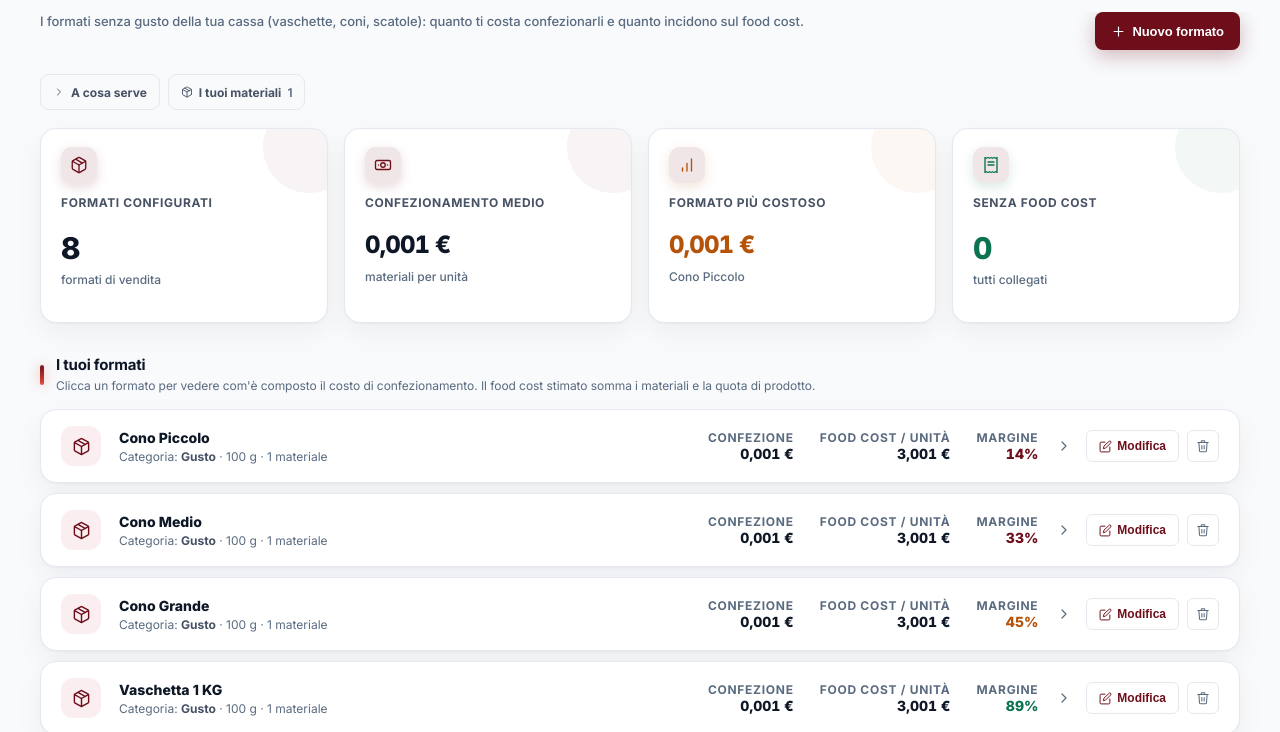
Test case: Eliminare chiede prima › il cestino non elimina: chiede, e dice cosa succede
The width and height of the screenshot is (1280, 732).
Click the button named "Elimina il formato Cono Piccolo".
click(1203, 446)  # box [1187,430,1219,462]
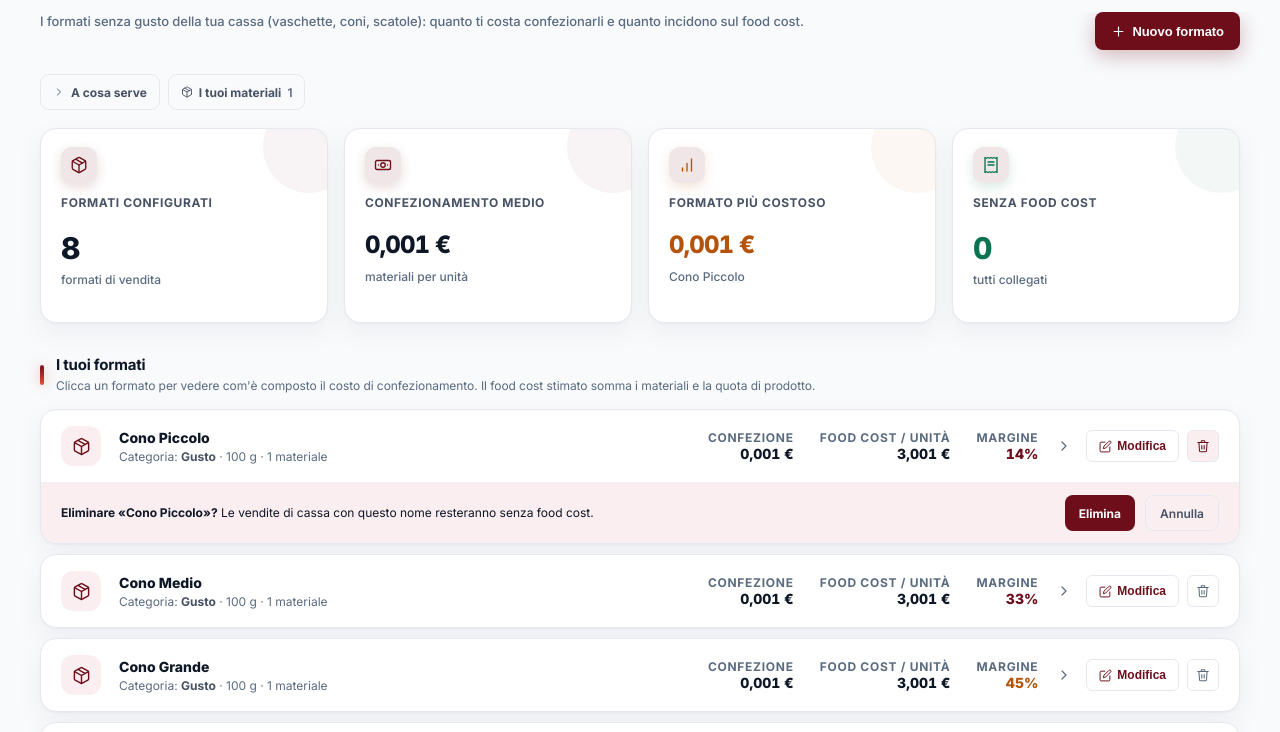
Check: the text "Eliminare «Cono Piccolo»?" is shown, box [61,505,218,520]
Check: the text "vendite di cassa con questo nome resteranno senza food cost" is shown, box [218,505,594,520]
